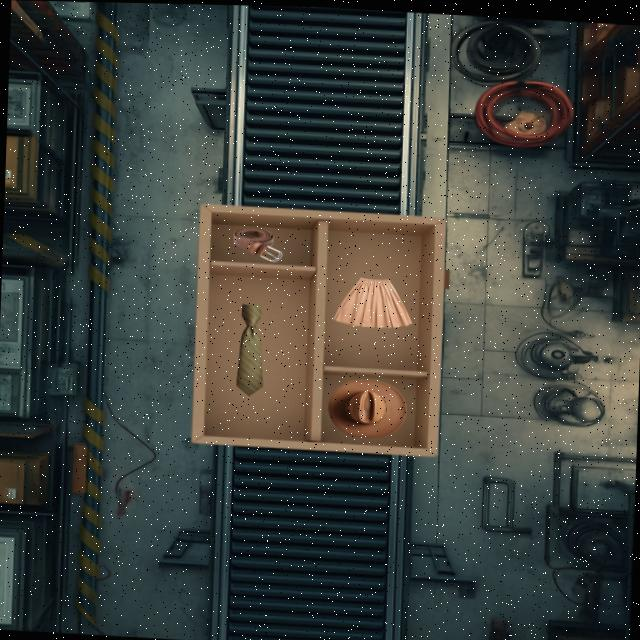belt: (233, 228, 282, 262)
hat: (328, 379, 406, 437)
skirt: (333, 277, 411, 327)
tie: (236, 304, 263, 395)
